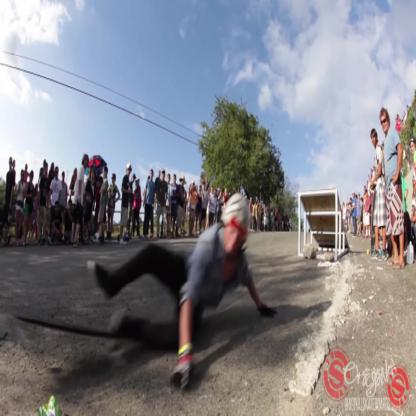Fall_Down: (86, 190, 283, 400)
